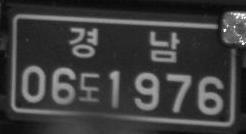0: (19, 64, 47, 104)
1: (103, 69, 127, 109)
6: (196, 75, 224, 116), (50, 65, 77, 107)
7: (165, 71, 193, 114)
9: (132, 70, 160, 112)
경남_D: (69, 25, 181, 65)
도: (77, 70, 100, 104)
